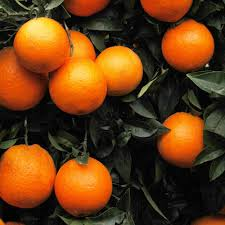orange: (53, 149, 114, 214), (1, 137, 55, 209), (1, 42, 48, 113), (51, 56, 107, 115), (157, 107, 208, 169), (13, 20, 71, 73), (157, 24, 216, 71), (95, 43, 145, 93)
